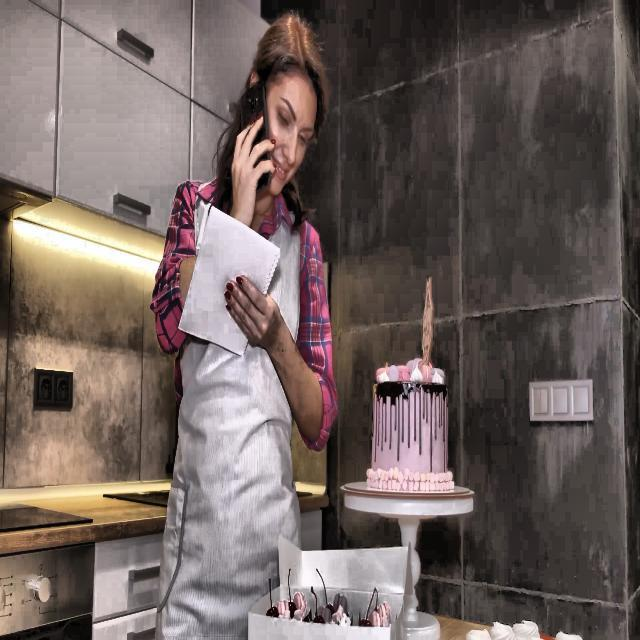Phone: (239, 76, 272, 196)
